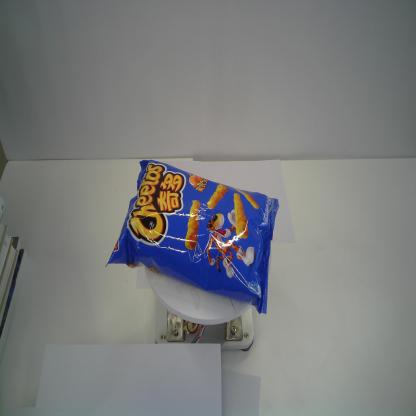Puffed Food: (104, 156, 282, 317)
